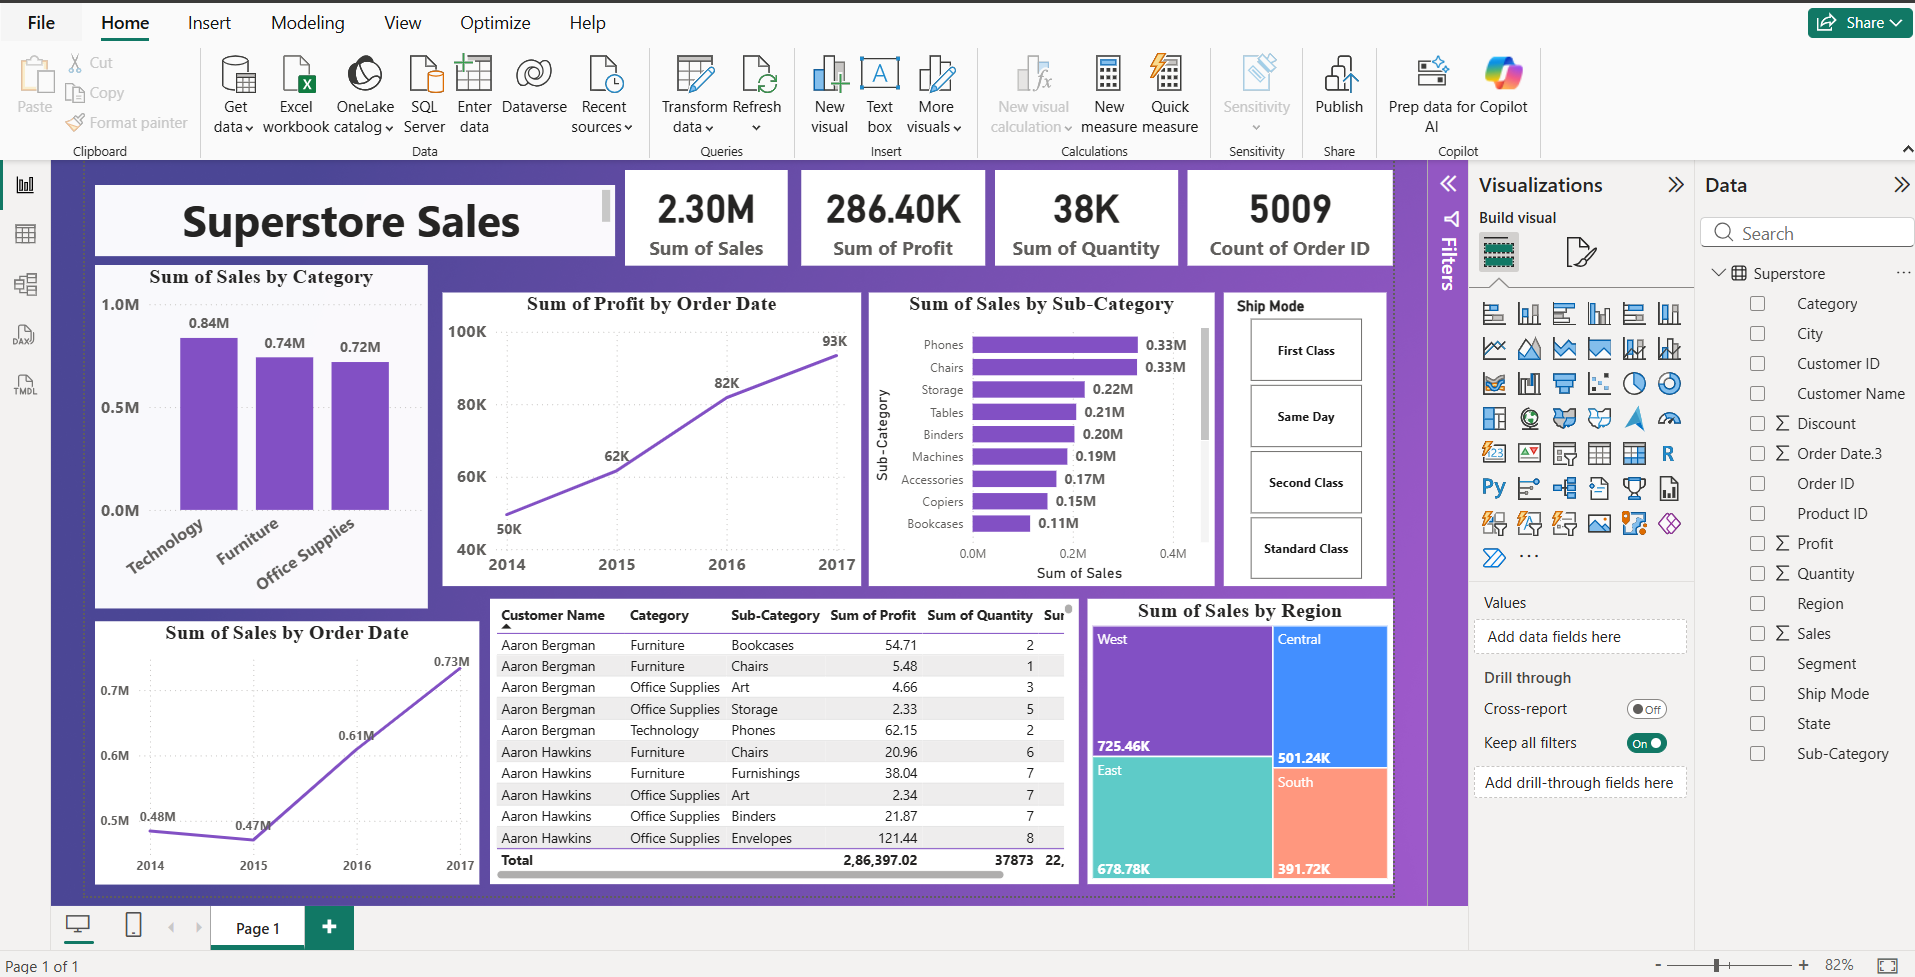

Layout of this report page (visuals, bound fields, positions):
{"tool":"powerbi","page":{"name":"Page 1","canvas":[1280,720],"ordinal":0},"visuals":[{"type":"card","fields":{"Values":["Sum(Superstore.Sales)"]},"box":[528.5,9.2,159.2,93.5],"z":0},{"type":"card","fields":{"Values":["Sum(Superstore.Profit)"]},"box":[700.4,9.2,180,93.5],"z":1000},{"type":"card","fields":{"Values":["Sum(Superstore.Quantity)"]},"box":[890.8,9.2,178.8,93.5],"z":2000},{"type":"textbox","box":[10.4,24.2,508.8,69.2],"z":3000},{"type":"card","fields":{"Values":["Count(Superstore.Order ID)"]},"box":[1078.8,9.2,200.8,93.5],"z":4000},{"type":"lineChart","fields":{"Y":["Sum(Superstore.Sales)"],"Category":["Superstore.Order Date.3"]},"box":[10.4,451.2,376.2,257.3],"z":5000},{"type":"lineChart","fields":{"Category":["Superstore.Order Date.3"],"Y":["Sum(Superstore.Profit)"]},"box":[349.6,129.2,409.6,287.3],"z":6000},{"type":"columnChart","fields":{"Category":["Superstore.Category"],"Y":["Sum(Superstore.Sales)"]},"box":[10.4,102.7,325.4,335.8],"z":7000},{"type":"barChart","fields":{"Category":["Superstore.Sub-Category"],"Y":["Sum(Superstore.Sales)"]},"box":[767.3,129.2,338.1,287.3],"z":8000},{"type":"treemap","fields":{"Group":["Superstore.Region"],"Values":["Sum(Superstore.Sales)"]},"box":[980.8,429.2,298.8,279.2],"z":9000},{"type":"tableEx","fields":{"Values":["Superstore.Customer Name","Superstore.Category","Superstore.Sub-Category","Sum(Superstore.Profit)","Sum(Superstore.Quantity)","Sum(Superstore.Sales)"]},"box":[395.8,429.2,575.8,279.2],"z":9001},{"type":"slicer","fields":{"Values":["Superstore.Ship Mode"]},"box":[1113.5,129.2,159.2,287.3],"z":9002}]}

Visuals, with their boxes on the page's 1280x720 design canvas (x1, y1, x2, y2). These are canvas units, not pixel positions in the 1915x977 screenshot, which may show the page scaled, cropped or inside an application window:
card - Sum(Superstore.Sales): 528, 9, 688, 103
card - Sum(Superstore.Profit): 700, 9, 880, 103
card - Sum(Superstore.Quantity): 891, 9, 1070, 103
textbox: 10, 24, 519, 93
card - Count(Superstore.Order ID): 1079, 9, 1280, 103
lineChart - Sum(Superstore.Sales) x Superstore.Order Date.3: 10, 451, 387, 708
lineChart - Superstore.Order Date.3 x Sum(Superstore.Profit): 350, 129, 759, 416
columnChart - Superstore.Category x Sum(Superstore.Sales): 10, 103, 336, 438
barChart - Superstore.Sub-Category x Sum(Superstore.Sales): 767, 129, 1105, 416
treemap - Superstore.Region x Sum(Superstore.Sales): 981, 429, 1280, 708
tableEx - Superstore.Customer Name x Superstore.Category: 396, 429, 972, 708
slicer - Superstore.Ship Mode: 1114, 129, 1273, 416
